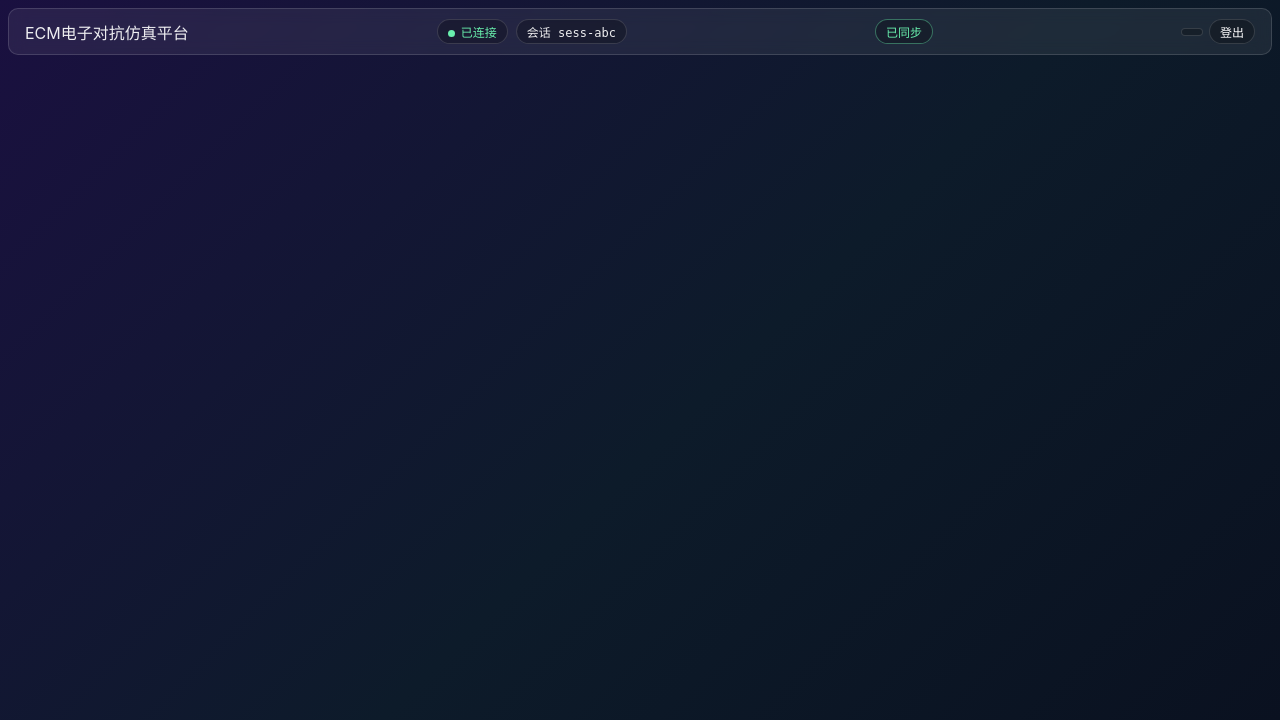
AppHeader › 悬停会话 badge 拉取列表并显示下拉
Hover over the element with class "session-wrapper".
mouse_move(571, 32)  # box [516,19,627,44]
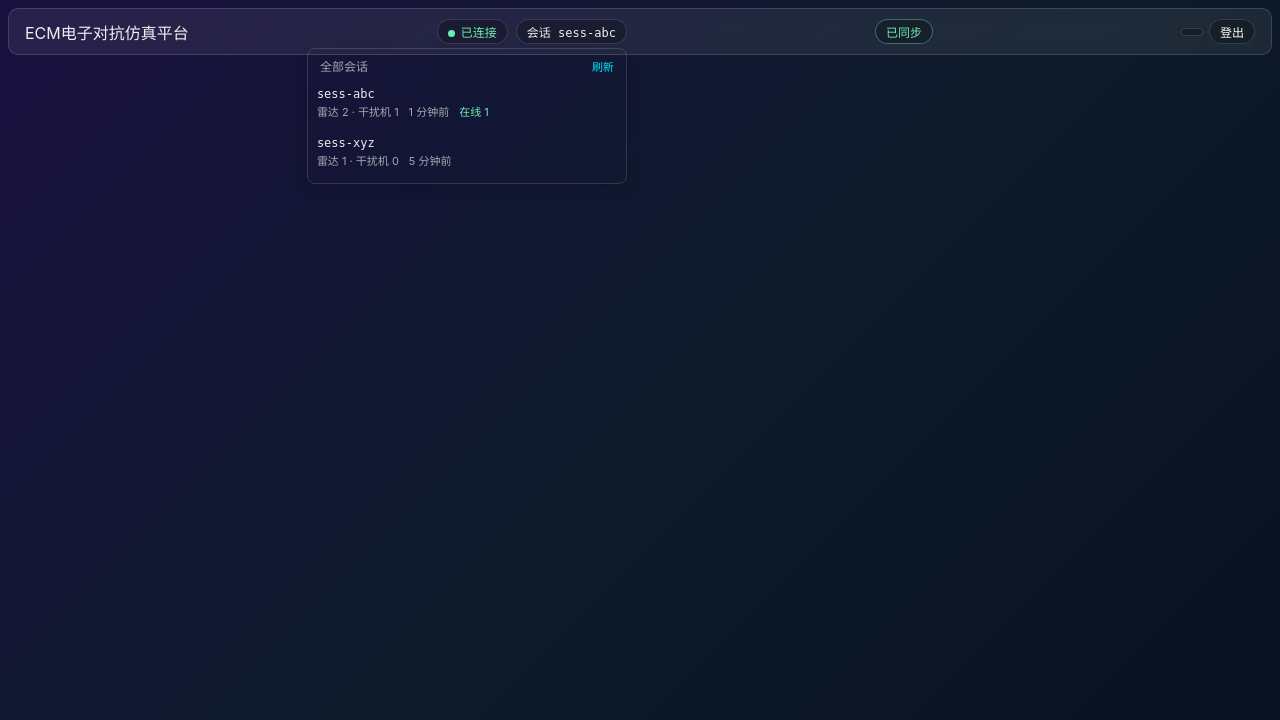
Expected: the element that starts with "全部会话" is shown, [307,48,627,184]
Expected: the element that starts with "全部会话" shows "sess-abc", [317,87,375,101]
Expected: the element that starts with "全部会话" shows "sess-xyz", [317,136,375,150]
